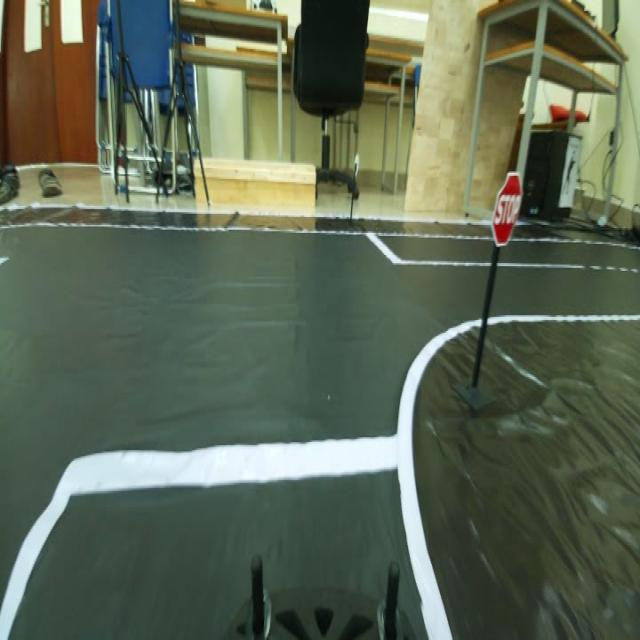stop: (487, 168, 525, 255)
